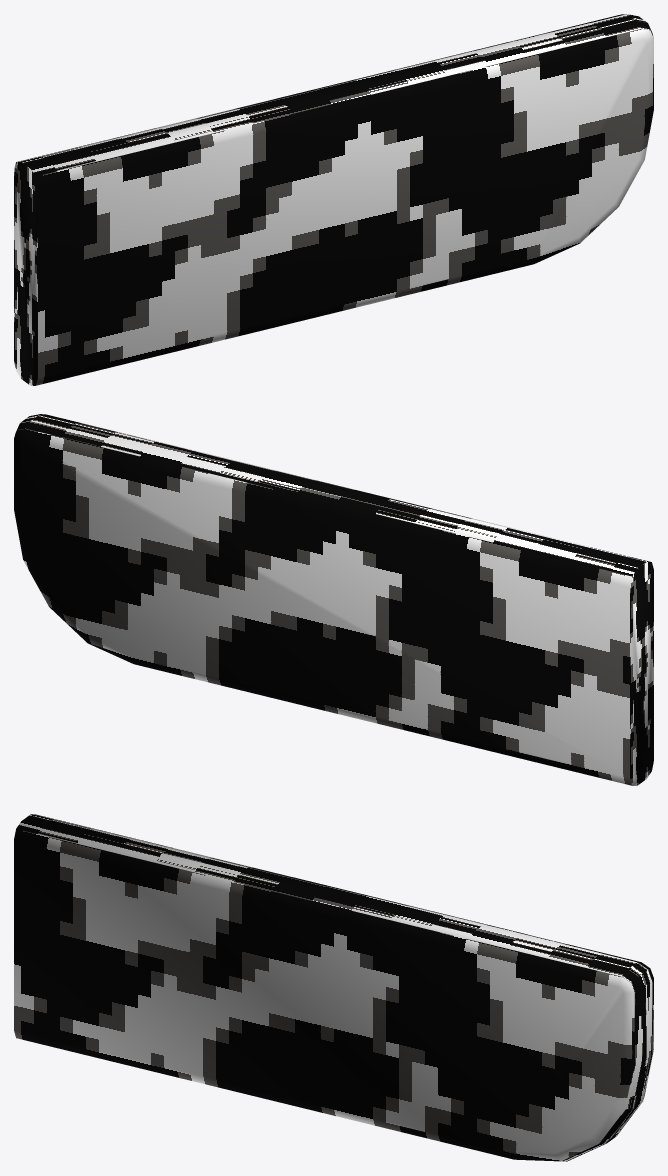
Rendered from sword_over_model.obj.
3 views of the same model, one above another, from view 1: azimuth 30°, elevation 25°; view 2: azimuth 150°, elevation 25°; view 3: azimuth 330°, elevation 25° (orthographic).
Parts seen in each view (by area): view 1: Cube; view 2: Cube; view 3: Cube.
Boxes of the visible parts, x1,y1,x2,y2 form: Cube: [14, 14, 653, 385]; Cube: [14, 414, 653, 785]; Cube: [14, 814, 653, 1161].
Size of the model in its own units: 6 by 2 by 0.4.
